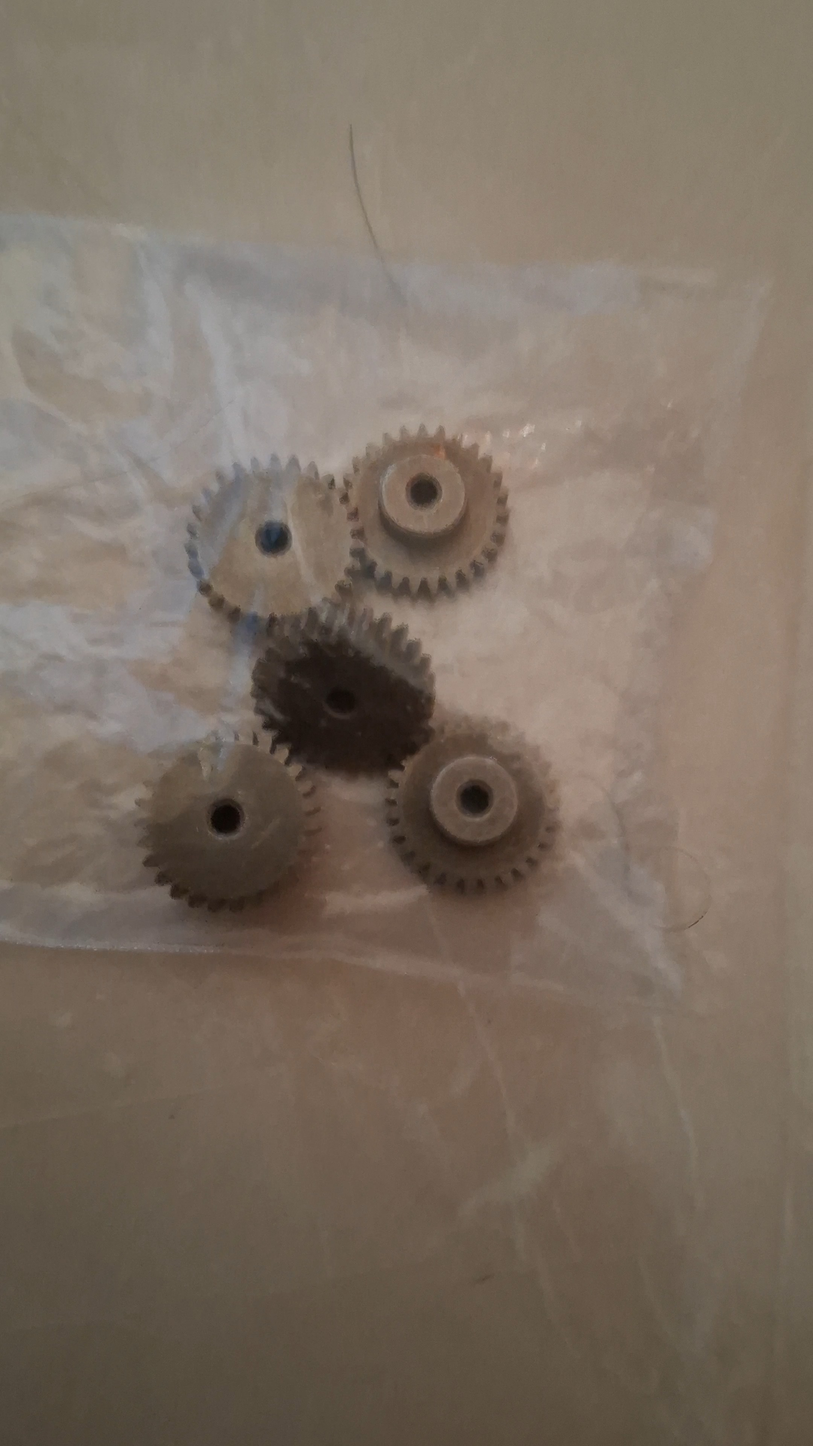spur gear: (142, 733, 317, 910), (253, 602, 434, 770), (386, 720, 559, 893), (186, 456, 358, 620), (344, 427, 507, 596)
